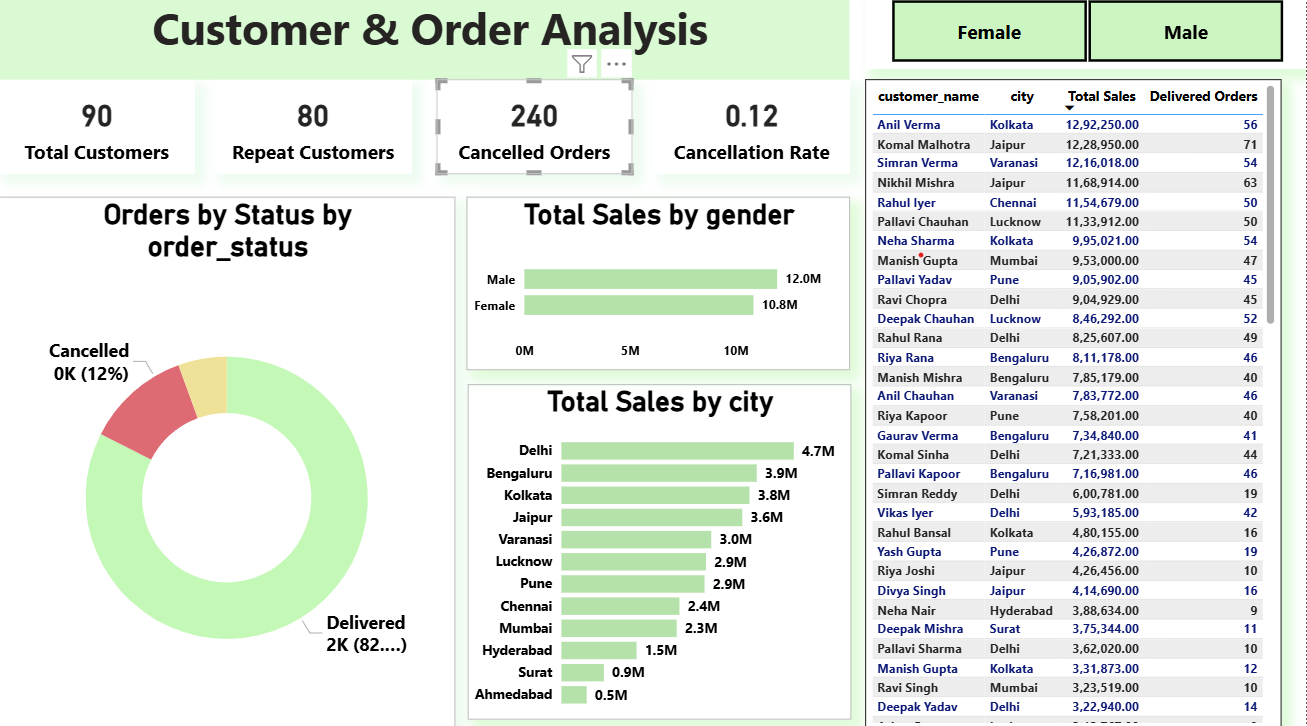

The dashboard page shown, as its layout file describes it:
{"tool":"powerbi","page":{"name":"Page 2","canvas":[1280,720],"ordinal":1},"visuals":[{"type":"card","fields":{"Values":["customers.Total Customers"]},"box":[0,84.5,191.6,92.4],"z":0},{"type":"card","fields":{"Values":["customers.Repeat Customers"]},"box":[211.9,84.5,191.6,92.4],"z":1000},{"type":"card","fields":{"Values":["orders.Cancellation Rate"]},"box":[641.3,84.5,191.6,92.4],"z":2000},{"type":"card","fields":{"Values":["orders.Cancelled Orders"]},"box":[428.3,84.5,191.6,92.4],"z":3000},{"type":"textbox","box":[0,0,831.8,84.5],"z":4000},{"type":"donutChart","fields":{"Y":["orders.Orders by Status"],"Category":["orders.order_status"]},"box":[0,199.3,446.3,520.9],"z":5000},{"type":"clusteredBarChart","fields":{"Y":["order_items.Total Sales"],"Category":["customers.city"]},"box":[458.6,382.7,375.4,327.7],"z":6000},{"type":"clusteredBarChart","fields":{"Y":["order_items.Total Sales"],"Category":["customers.gender"]},"box":[457.3,199.3,375.4,170],"z":7000},{"type":"slicer","fields":{"Values":["customers.gender"]},"box":[847.4,0,432.9,74.6],"z":8000},{"type":"tableEx","fields":{"Values":["customers.customer_name","customers.city","order_items.Total Sales","orders.Delivered Orders"]},"box":[847.4,84.4,407.2,635.9],"z":9000}]}

Visuals, with their boxes in screenshot pixels (x1, y1, x2, y2), scaled from the page's 1280x720 canvas onto the 1307x726 screenshot:
card - customers.Total Customers: 0,85,196,178
card - customers.Repeat Customers: 216,85,412,178
card - orders.Cancellation Rate: 655,85,850,178
card - orders.Cancelled Orders: 437,85,633,178
textbox: 0,0,849,85
donutChart - orders.Orders by Status x orders.order_status: 0,201,456,725
clusteredBarChart - order_items.Total Sales x customers.city: 468,386,852,716
clusteredBarChart - order_items.Total Sales x customers.gender: 467,201,850,372
slicer - customers.gender: 865,0,1306,75
tableEx - customers.customer_name x customers.city: 865,85,1281,725
